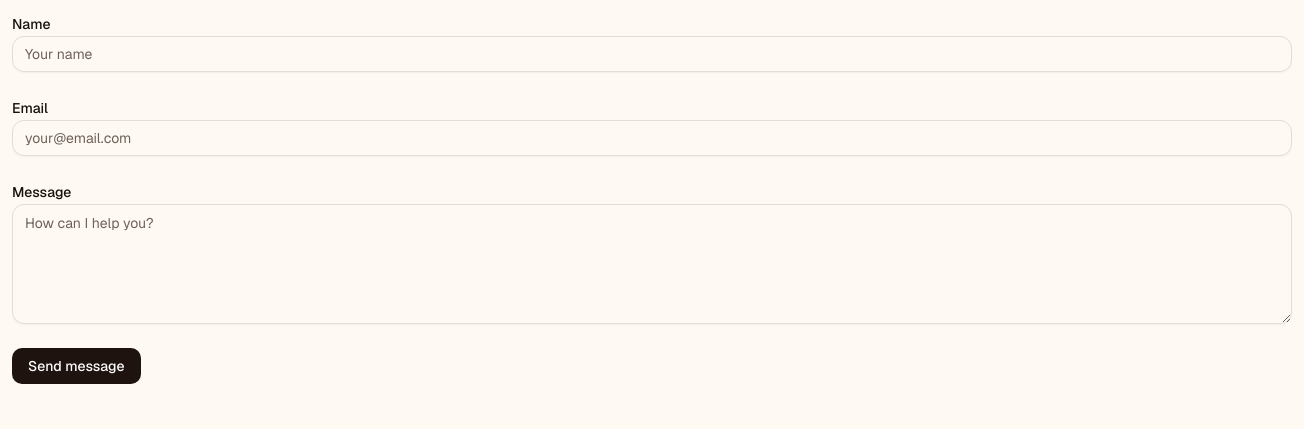
Test case: ContactForm › required field validation (Requirement 8.2) › reports a too-short message as invalid
The image size is (1304, 429).
In the field labelled "Name": (652, 54) 12,36 -> 1292,72, type "Jane"
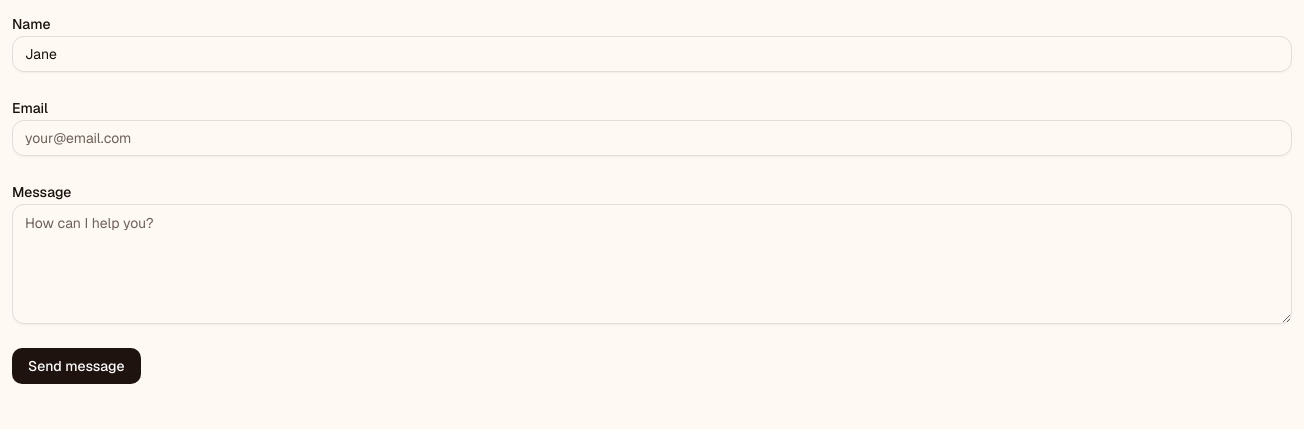
In the field labelled "Email": (652, 138) 12,120 -> 1292,156, type "jane@example.com"
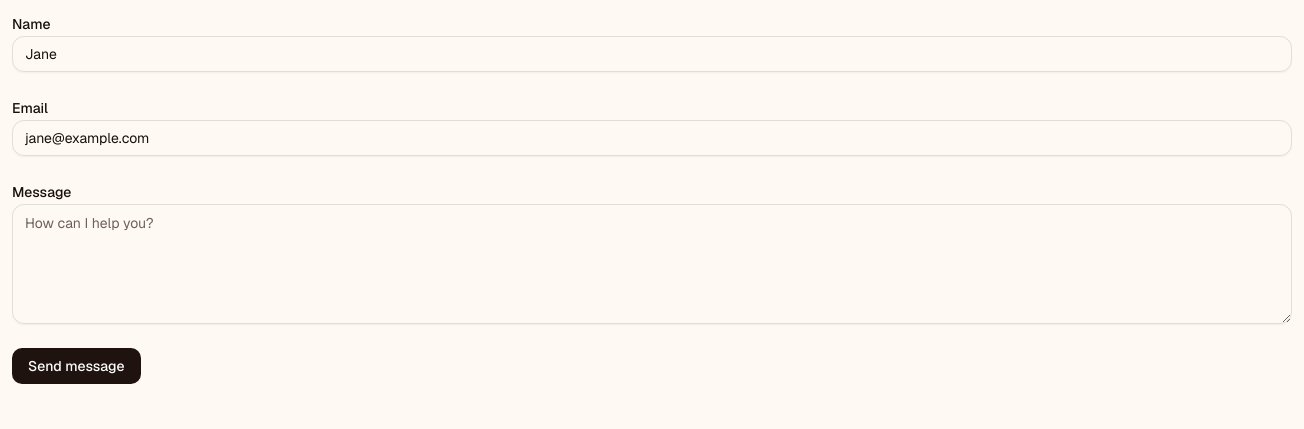
In the text box labelled "Message": (652, 264) 12,204 -> 1292,324, type "Hi"
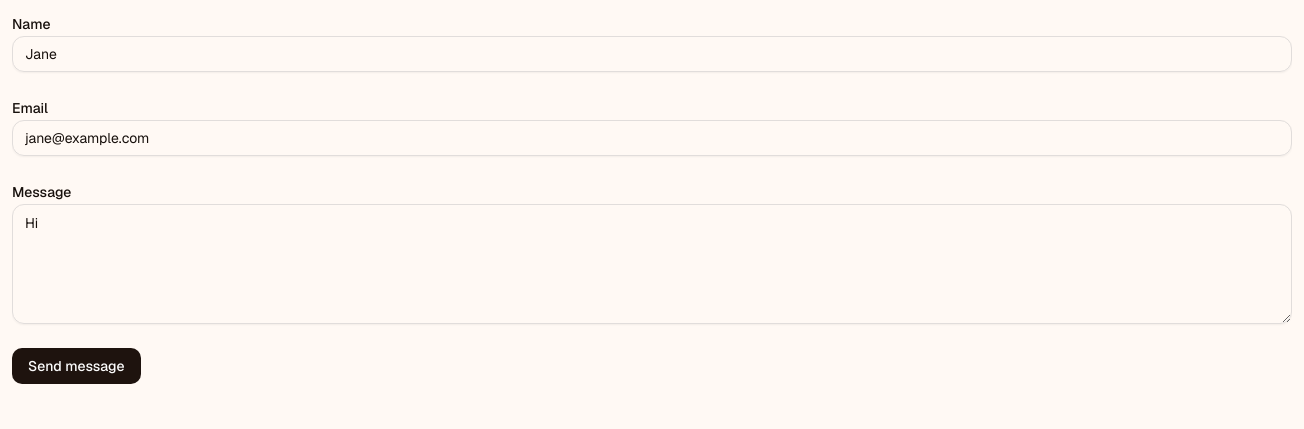
Click the button "Send message": (76, 366) 12,348 -> 140,384
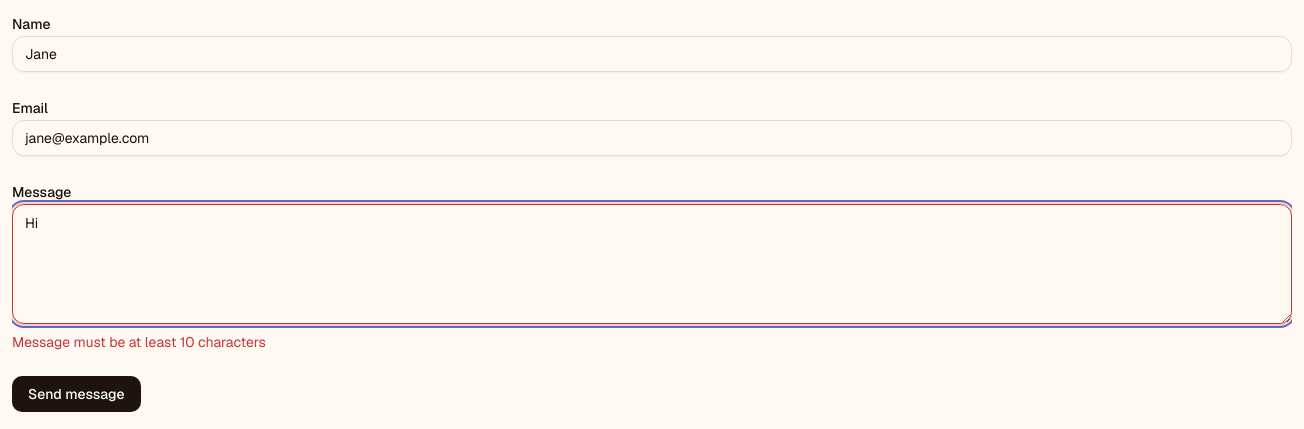
Now the text "Message must be at least 10 characters" is shown, box 12,333 -> 266,351
